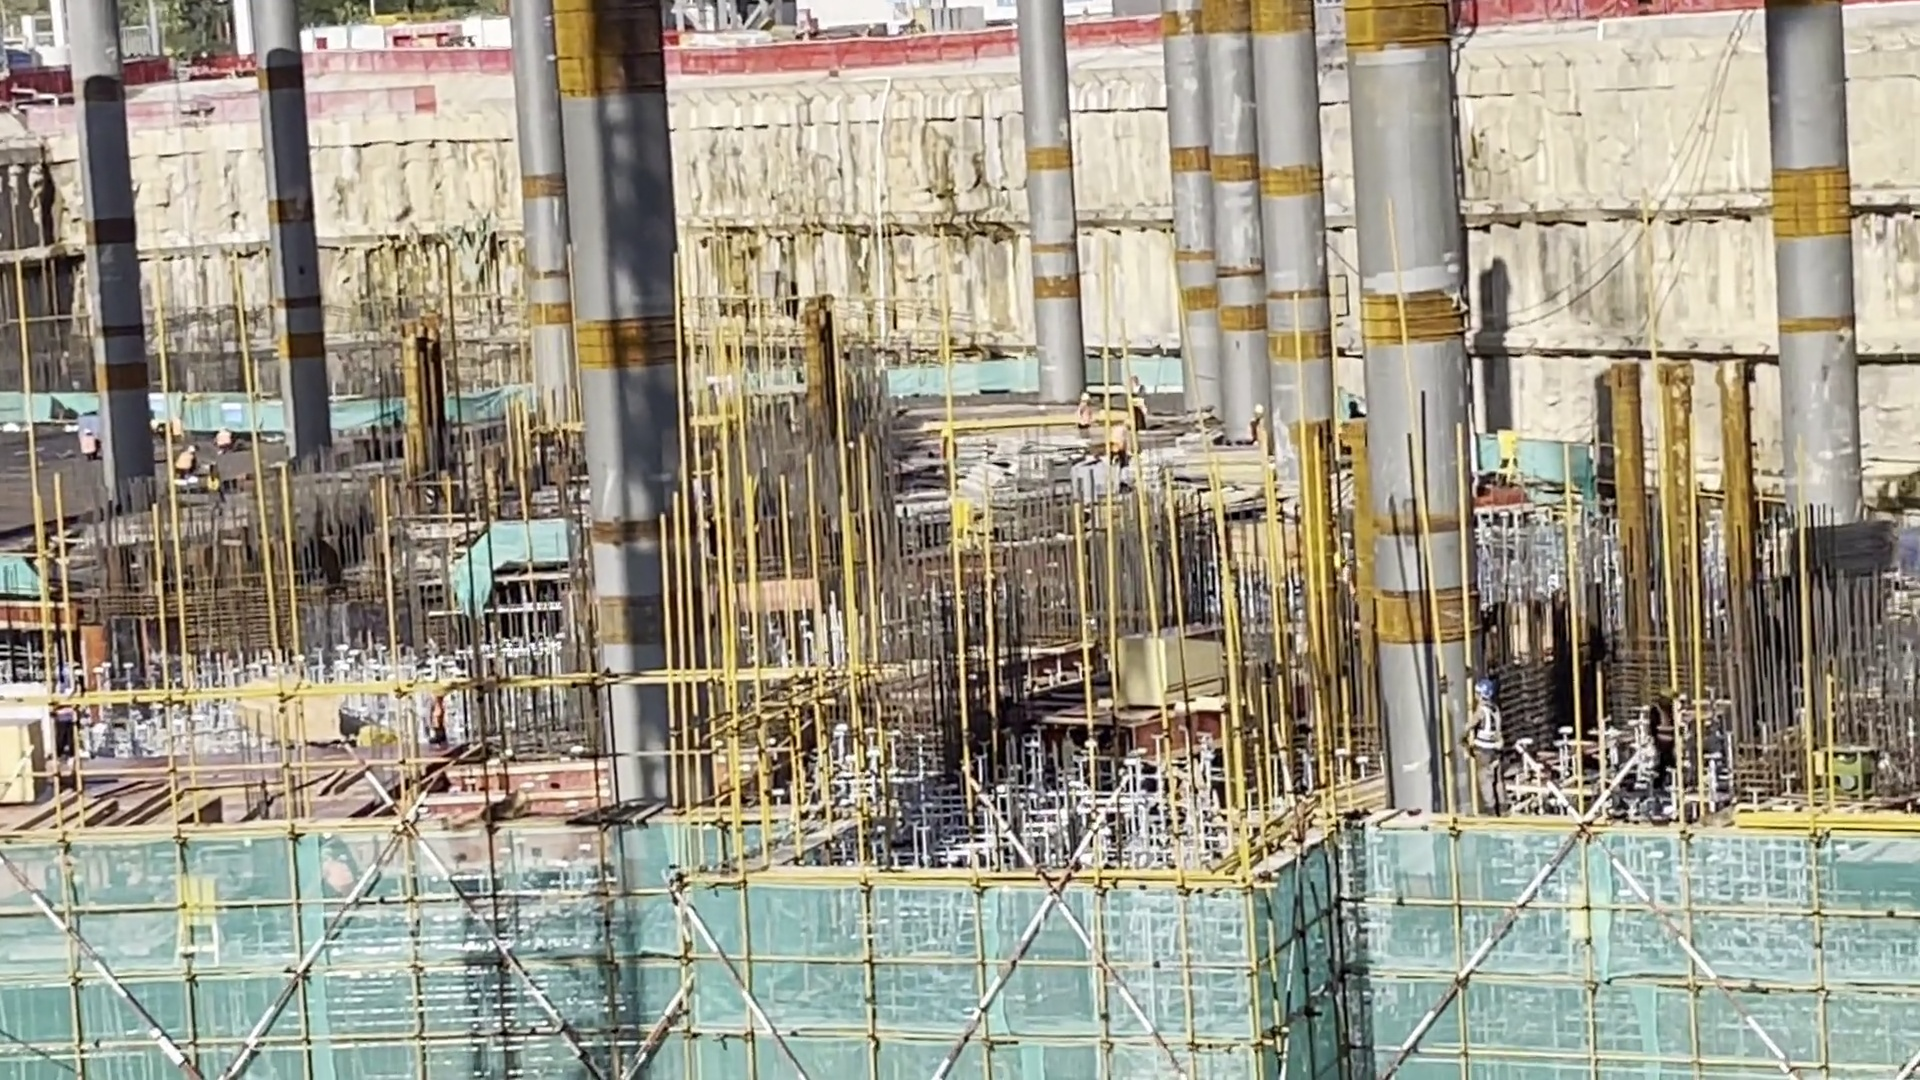helmet: (1475, 680, 1492, 699)
person: (1467, 679, 1504, 816), (1651, 689, 1673, 790)
vest: (1473, 711, 1498, 751)
